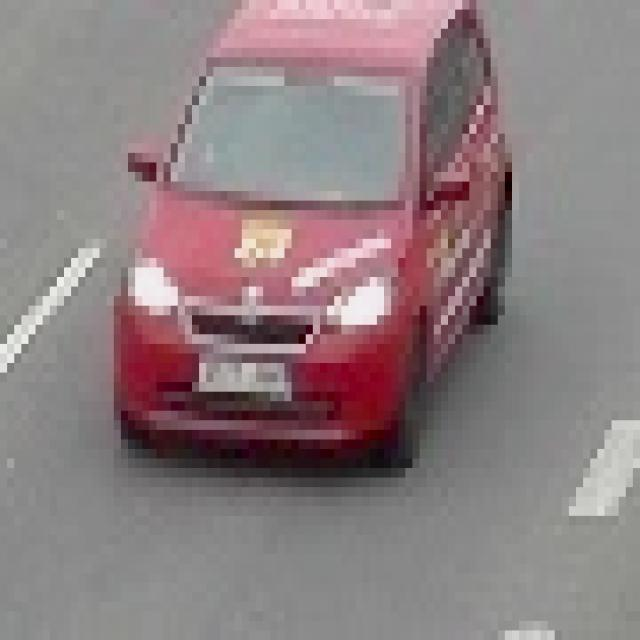red: (104, 0, 516, 475)
